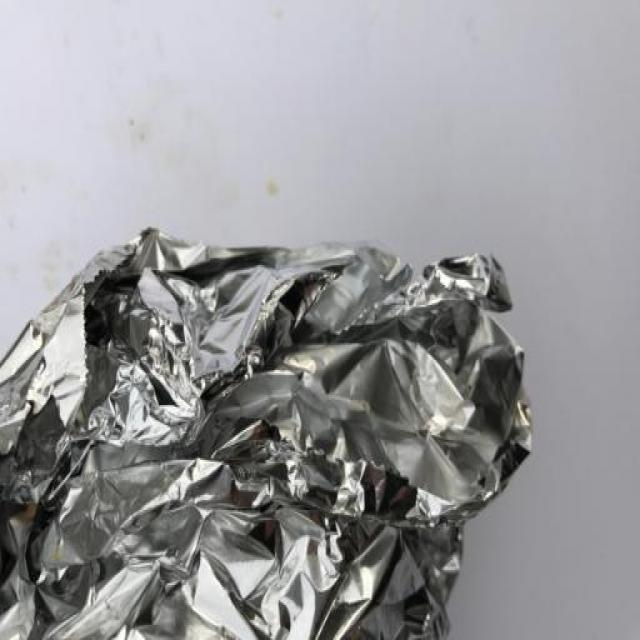others: (12, 199, 561, 640)
